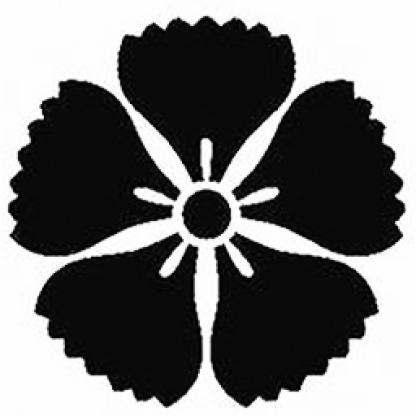kamon: (3, 13, 405, 408)
